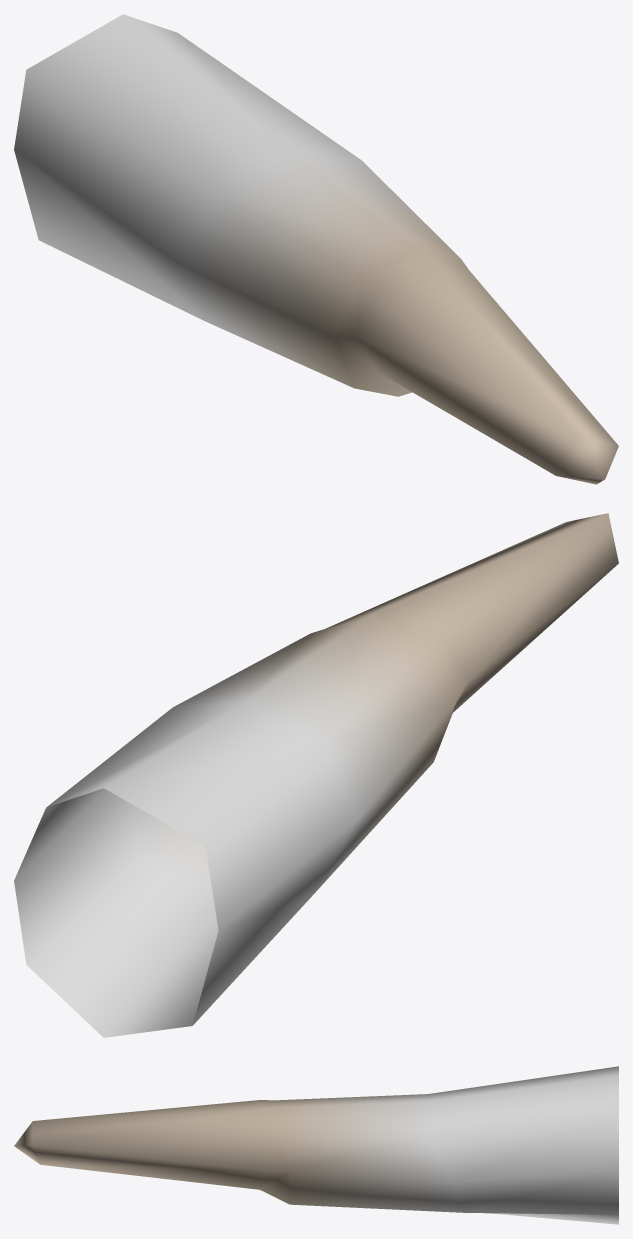
File: Stalactites_C.glb
3 renders of one model, top to bottom at view 1: azimuth 30°, elevation 25°; view 2: azimuth 150°, elevation 25°; view 3: azimuth 270°, elevation 25°, orthographic. The views are drawn at different scales.
Parts seen in each view (by area): view 1: MeshNode_0; view 2: MeshNode_0; view 3: MeshNode_0.
Part boxes in pixels (x1,y1,x2,y2): MeshNode_0: [14, 14, 618, 484]; MeshNode_0: [14, 513, 618, 1037]; MeshNode_0: [14, 1066, 618, 1224].
Size of the model in its own units: 1.42 by 1.43 by 5.27.
